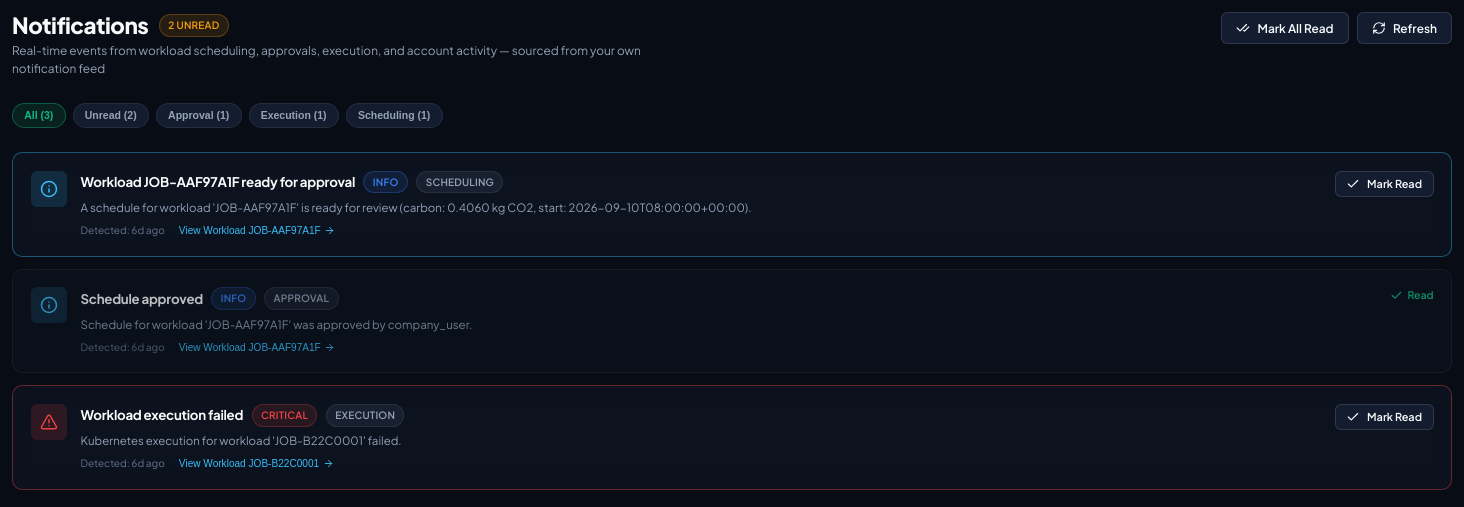
Test case: AlertsPage › filters to only unread items when the Unread tab is selected
This screenshot has width=1464, height=507.
Expected: the heading "Workload JOB-AAF97A1F ready for approval" is shown, [80, 172, 355, 192]
Step 1. Click the button "Unread (2)" → [111, 115], box [72, 103, 149, 128]
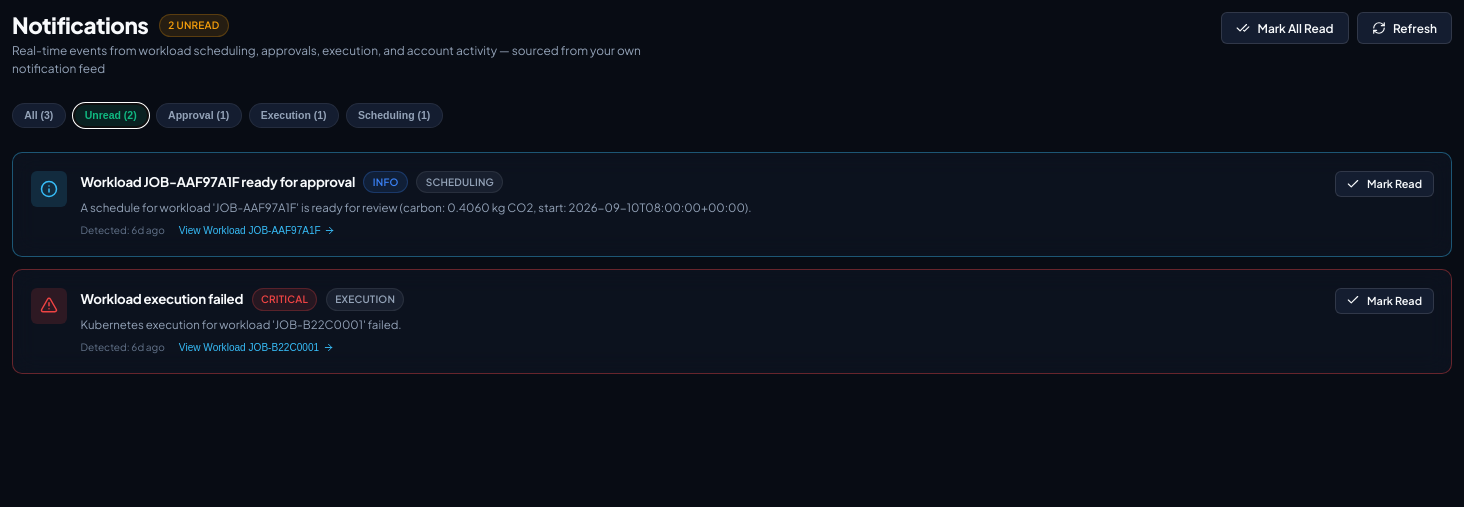
Expected: the heading "Workload JOB-AAF97A1F ready for approval" is shown, [80, 172, 355, 192]
Result: the heading "Schedule approved" is gone
